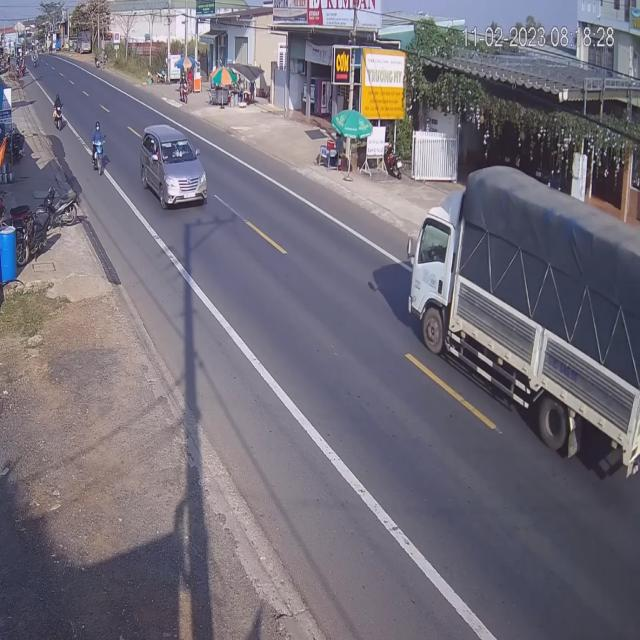car: (143, 128, 211, 212)
motorbike: (90, 122, 107, 173), (54, 95, 66, 132)
truck: (406, 164, 640, 482)
